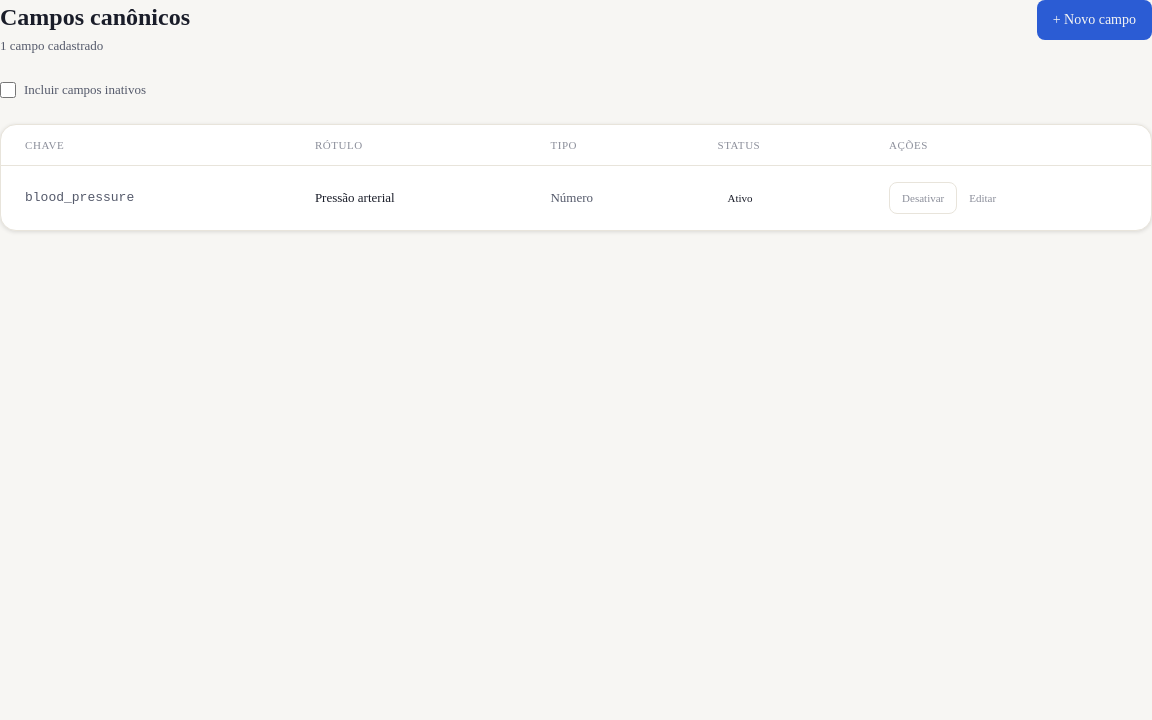
Test: CanonicalFieldList (integration) › opens toggle dialog when toggle button is clicked
This screenshot has width=1152, height=720.
Expected: the table with test id "canonical-field-list-table" is shown, [1, 125, 1151, 230]
What coordinates should you click on to do the following:
click the button with test id "canonical-field-toggle-button-uuid-1"
I would click on:
 (923, 198)
Its box is [889, 182, 957, 214].
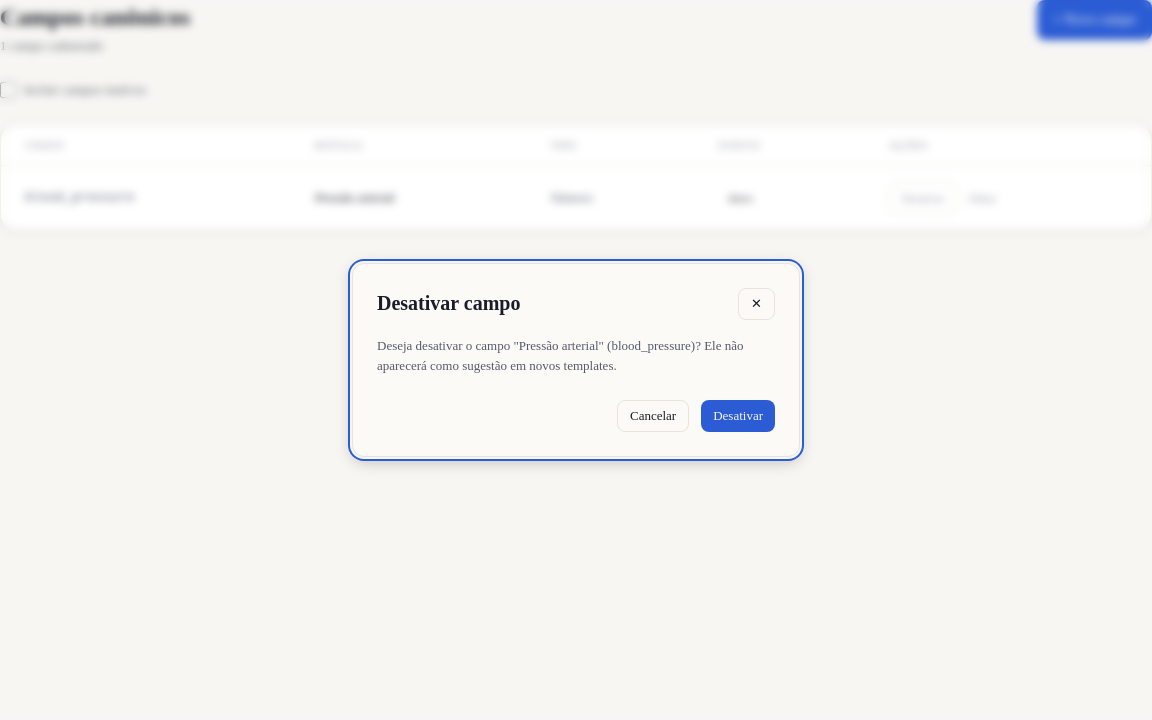
Now the button with test id "canonical-field-toggle-dialog-confirm" is shown, box [701, 400, 775, 432]
